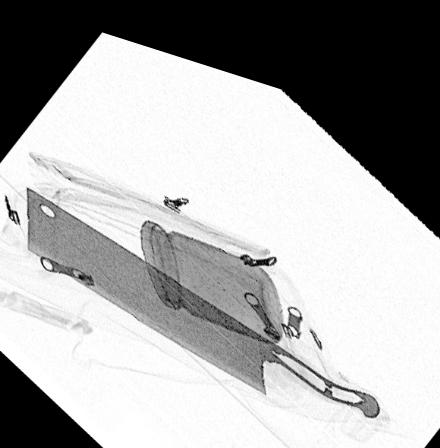Knife: (25, 183, 381, 396)
